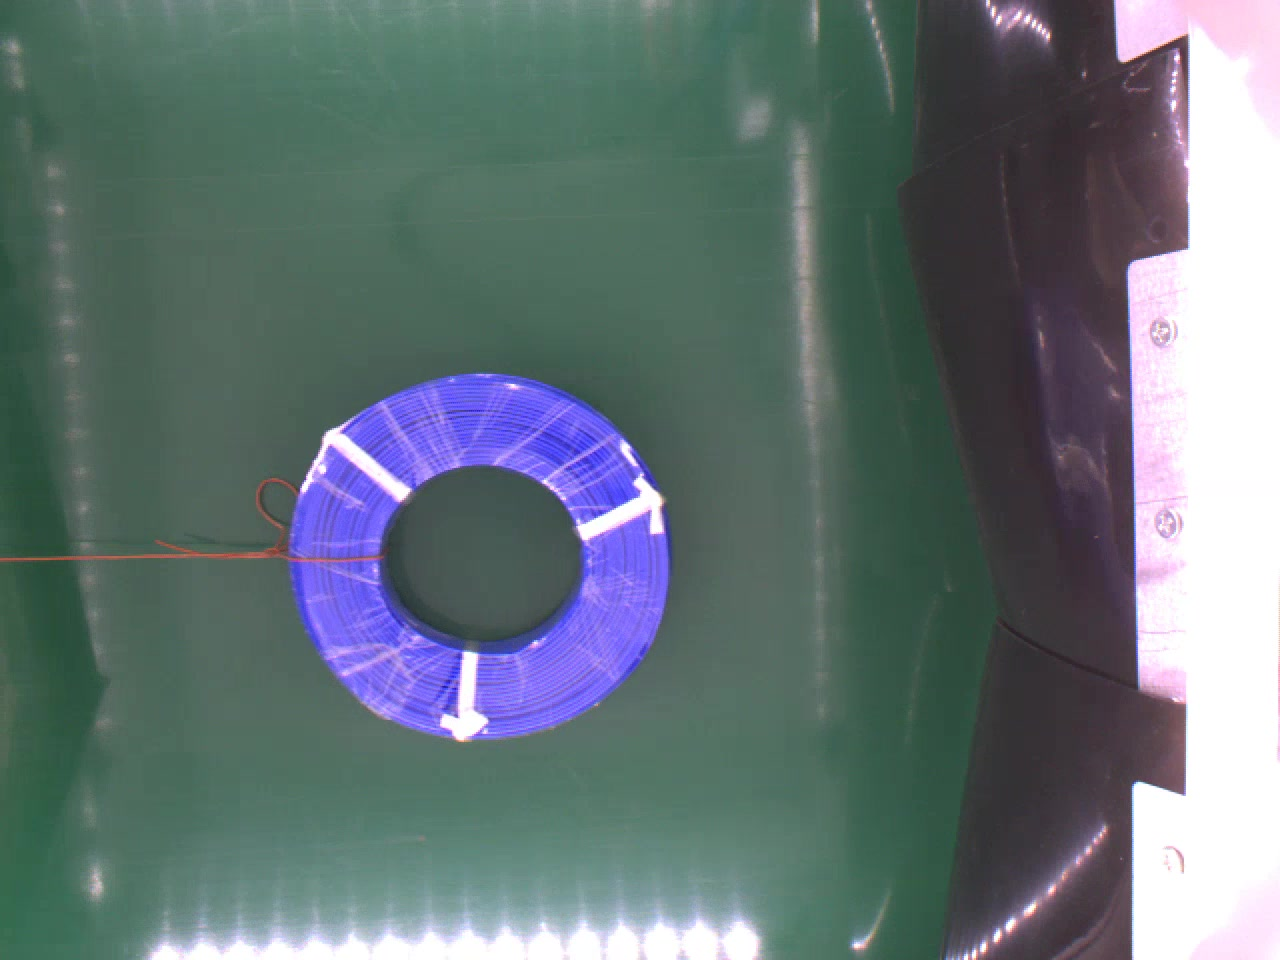blue: (287, 372, 668, 741)
